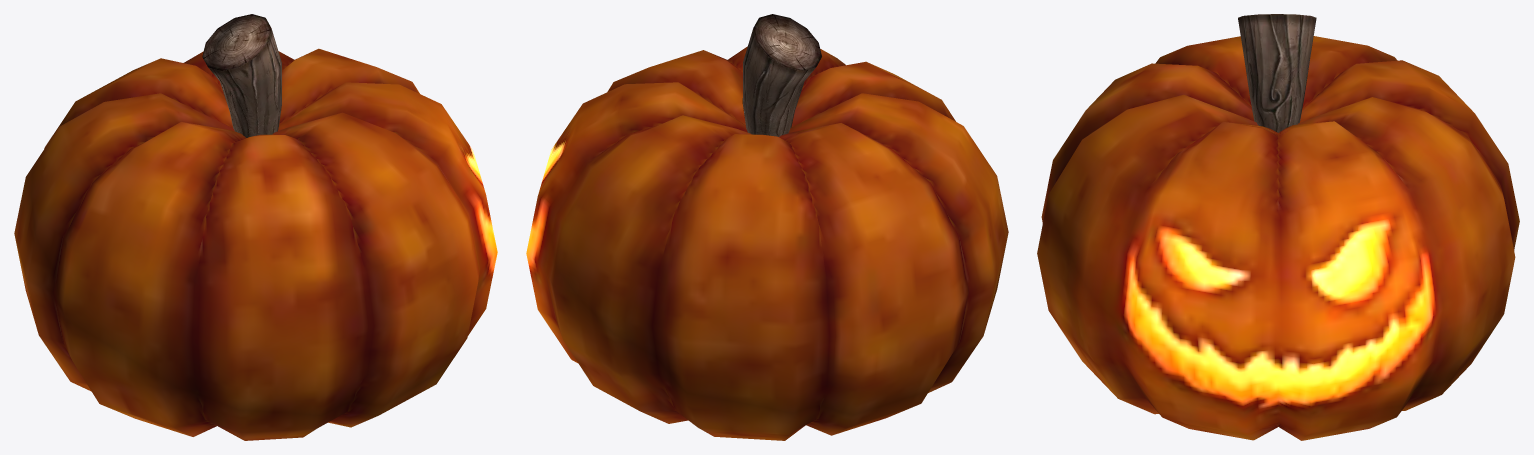
Rendered from calabaza_tallada.glb.
3 renders of one model, left to right at view 1: azimuth 30°, elevation 25°; view 2: azimuth 150°, elevation 25°; view 3: azimuth 270°, elevation 25°, orthographic. The views are drawn at different scales.
Parts seen in each view (by area): view 1: pSphere4, pCylinder3; view 2: pSphere4, pCylinder3; view 3: pSphere4, pCylinder3.
Boxes of the visible parts, x1,y1,x2,y2 form: pSphere4: [14, 48, 497, 440]; pCylinder3: [202, 14, 281, 137]; pSphere4: [526, 46, 1008, 440]; pCylinder3: [742, 14, 821, 136]; pSphere4: [1037, 36, 1519, 440]; pCylinder3: [1238, 14, 1316, 132].
Size of the model in its own units: 3.77 by 3.17 by 3.68.
Materials: 2 (2 with a texture image).
